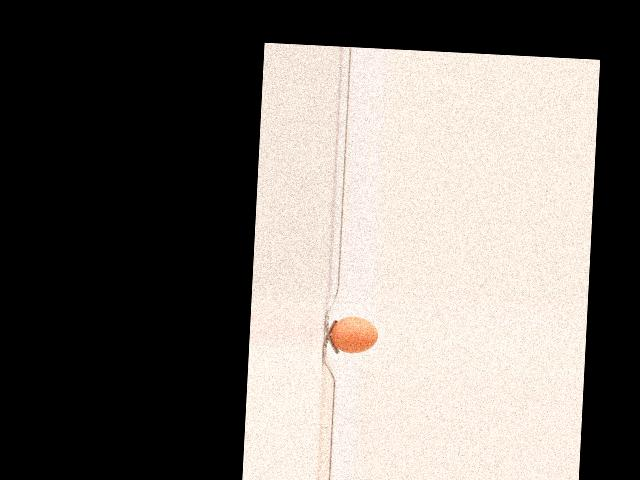egg: (330, 315, 378, 354)
